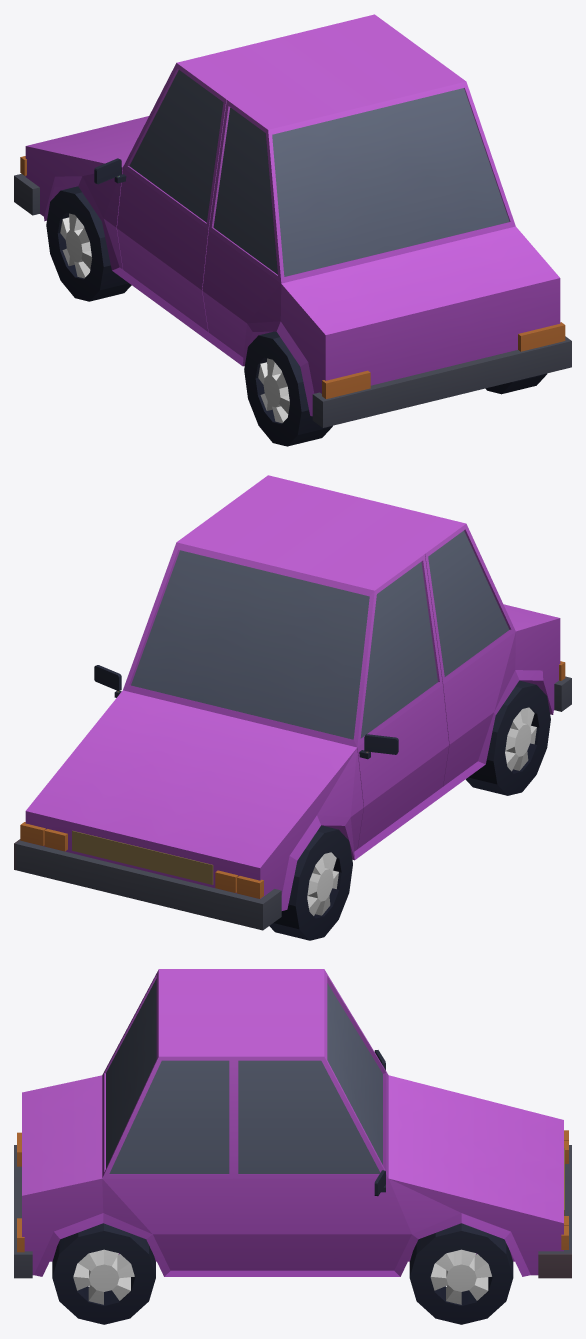
Rendered from Mobil Ungu.fbx.
3 views of the same model, one above another, from view 1: azimuth 30°, elevation 25°; view 2: azimuth 150°, elevation 25°; view 3: azimuth 270°, elevation 25° (orthographic). The views are drawn at different scales.
Parts seen in each view (by area): view 1: Mobil Ungu; view 2: Mobil Ungu; view 3: Mobil Ungu.
Boxes of the visible parts, x1,y1,x2,y2 form: Mobil Ungu: (14,14,571,446); Mobil Ungu: (14,475,571,940); Mobil Ungu: (14,969,571,1324).
Bounding box in the file's own units: 1.44 × 1.3 × 2.55.
